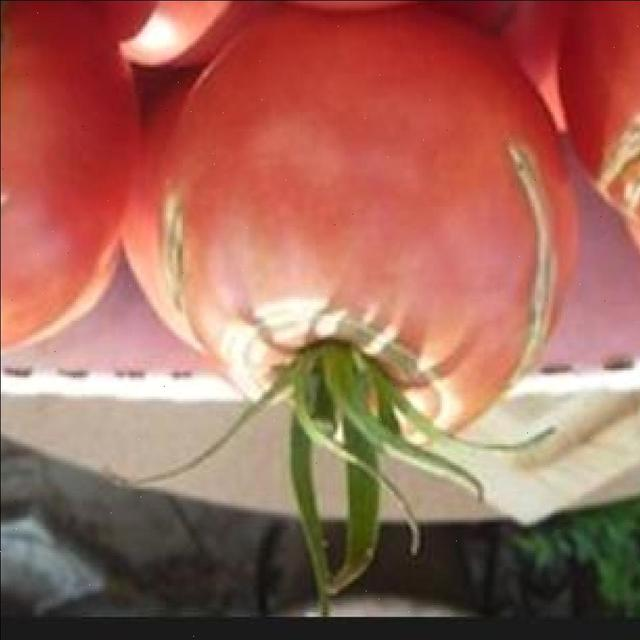Cracking Fruit: (39, 84, 407, 249)
